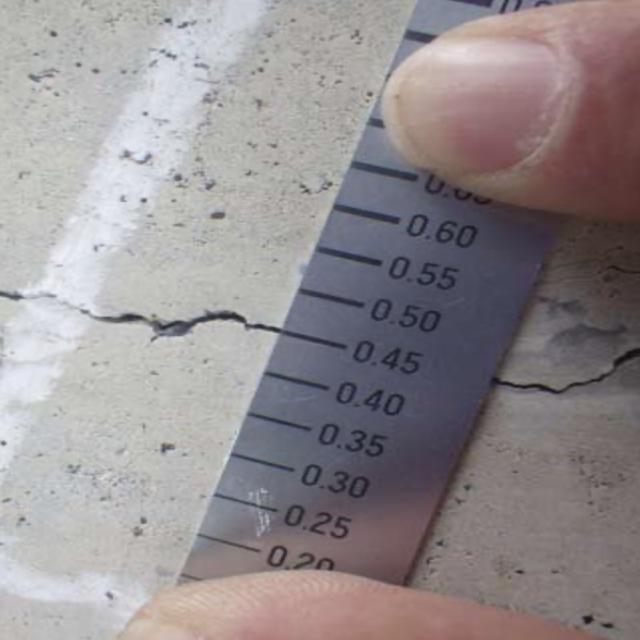crack: (0, 266, 276, 347), (491, 333, 640, 411)
